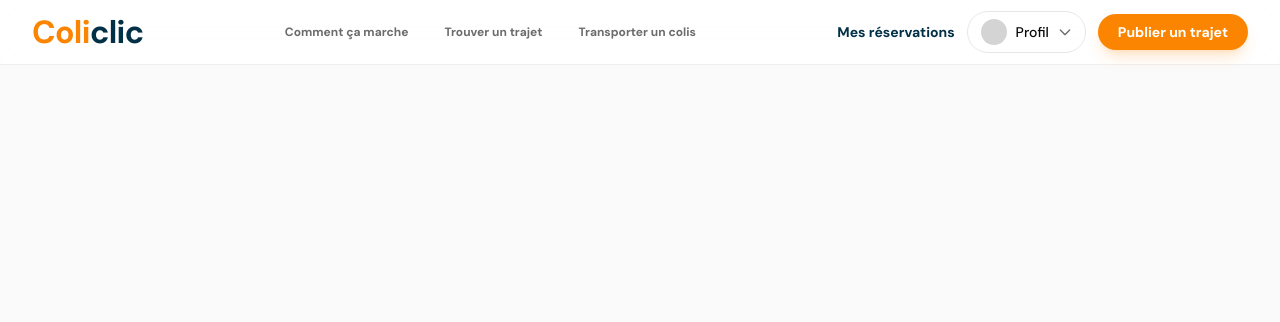
it: HeaderComponent › opens profile dropdown with expected links
The width and height of the screenshot is (1280, 322).
Click the button with aria-label "Menu profil".
click(1026, 32)  # box [967,11,1086,53]
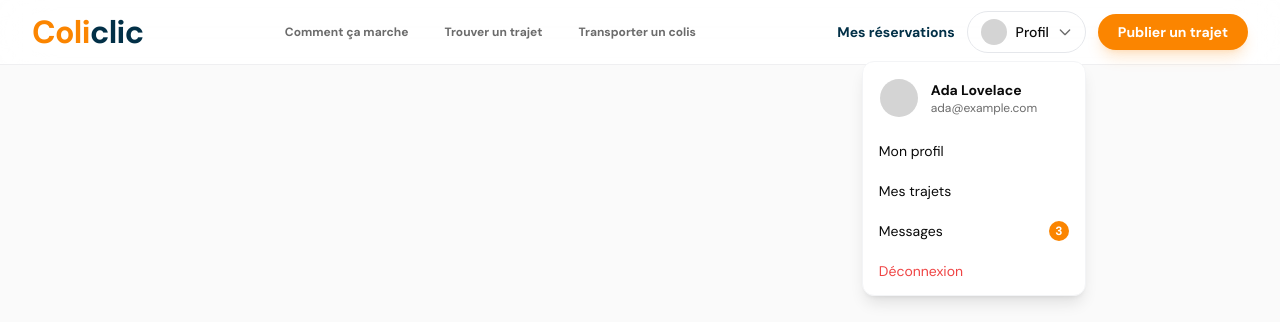
Expected: the text "Mon profil" is shown, [879,142,944,160]
Expected: the text "Mes trajets" is shown, [879,182,951,200]
Expected: the text "Messages" is shown, [879,221,943,241]
